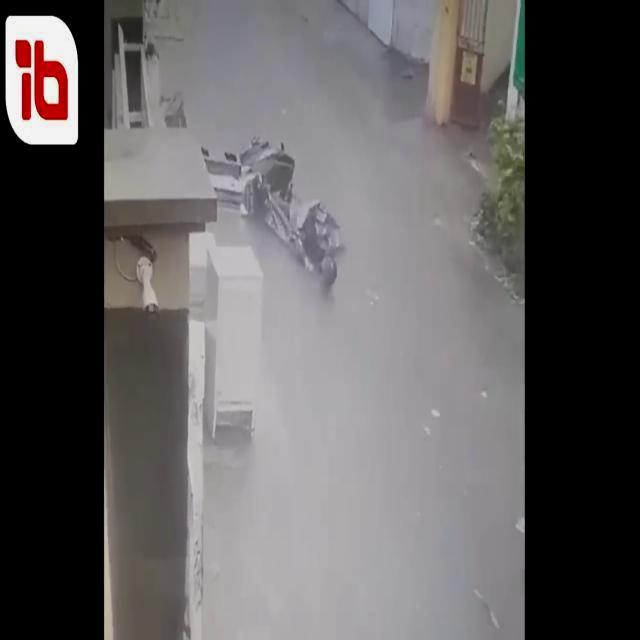accident: (238, 136, 346, 292)
